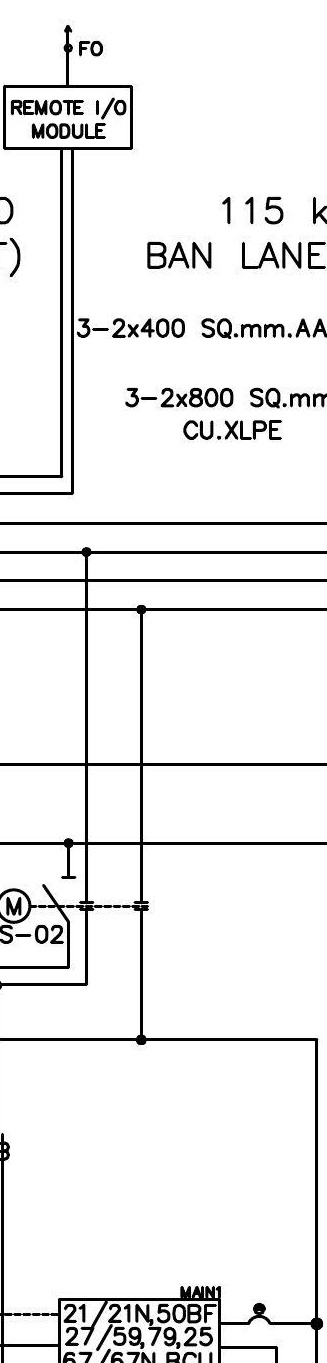remote_io_module: (2, 85, 133, 151)
